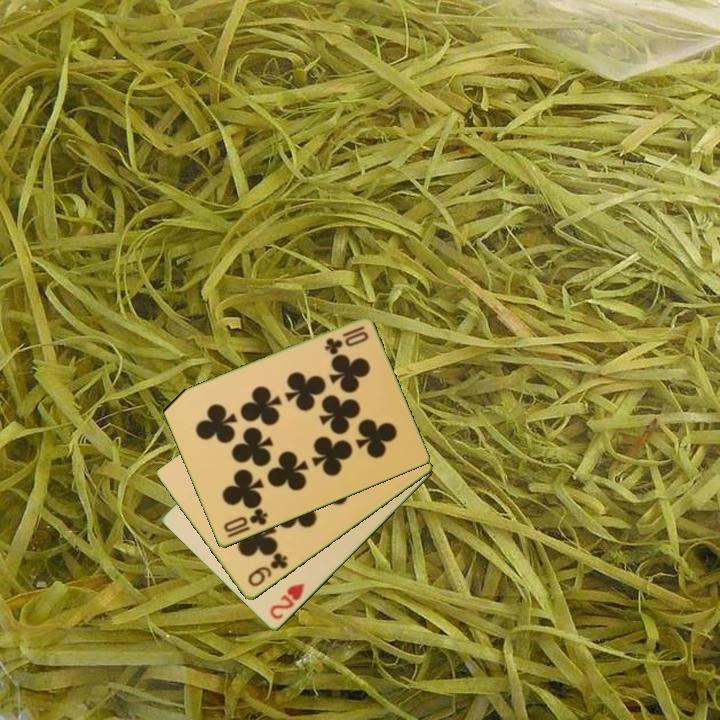10c: (220, 505, 271, 541), (321, 323, 371, 357)
2h: (266, 580, 307, 623)
9c: (244, 549, 291, 590)
